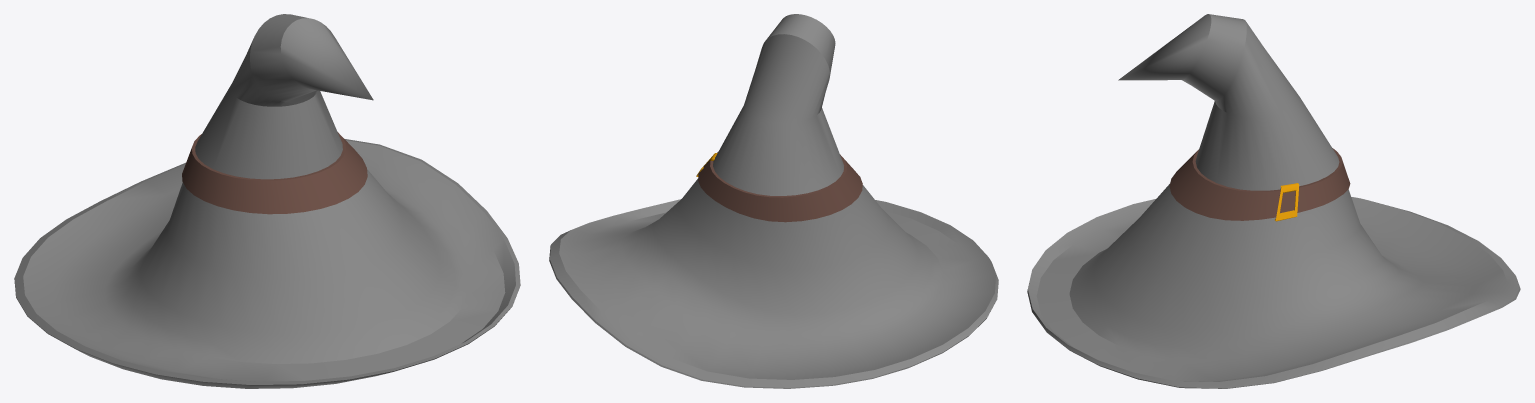
Rendered from WizardHat.fbx.
3 views of the same model, side by side, from view 1: azimuth 30°, elevation 25°; view 2: azimuth 150°, elevation 25°; view 3: azimuth 270°, elevation 25° (orthographic). The views are drawn at different scales.
Parts seen in each view (by area): view 1: Circle; view 2: Circle; view 3: Circle.
Boxes of the visible parts, x1,y1,x2,y2 form: Circle: (14, 14, 520, 388); Circle: (549, 14, 998, 388); Circle: (1027, 14, 1520, 388).
Bounding box in the file's own units: 215 × 141 × 215.
